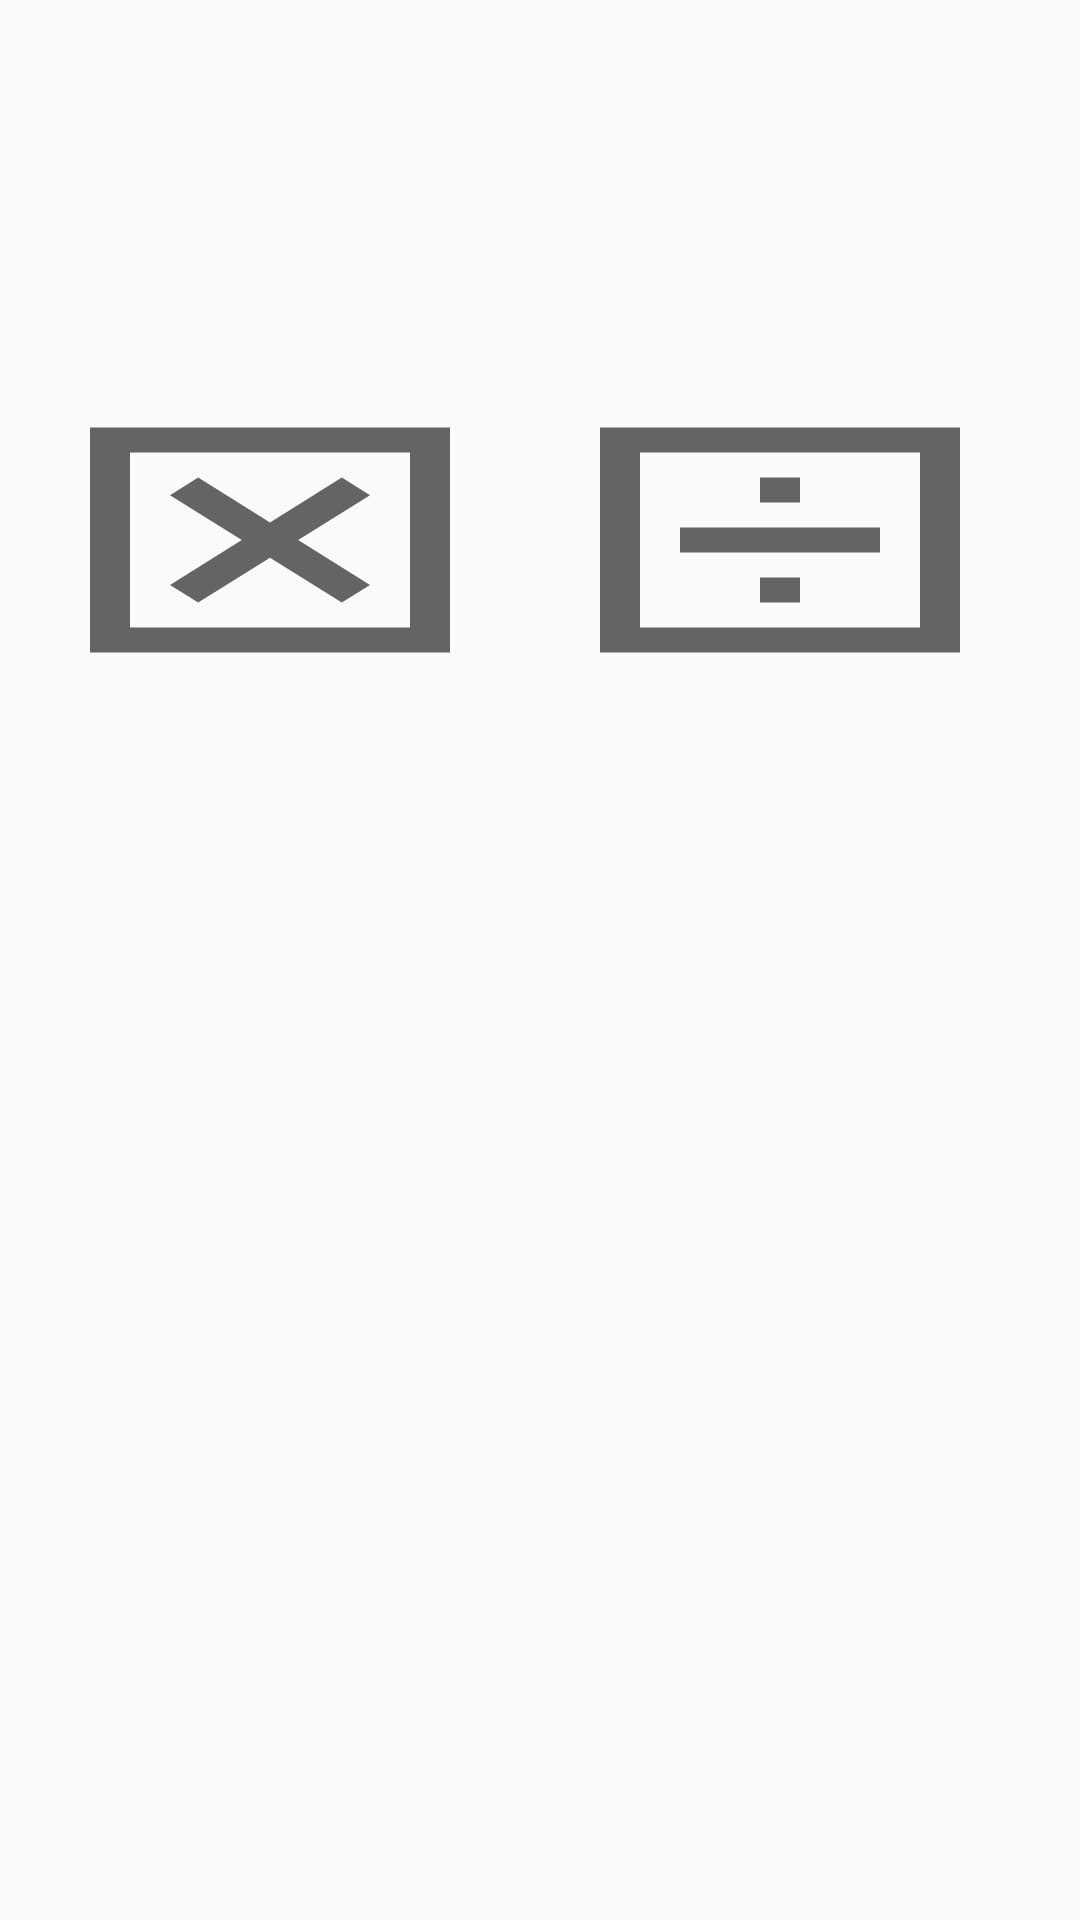

Icons on this 1080×1920 Android screen, each with its box as [x1,y1,x2,y2]:
div box: [600,427,960,653]
mult box: [90,427,450,653]
